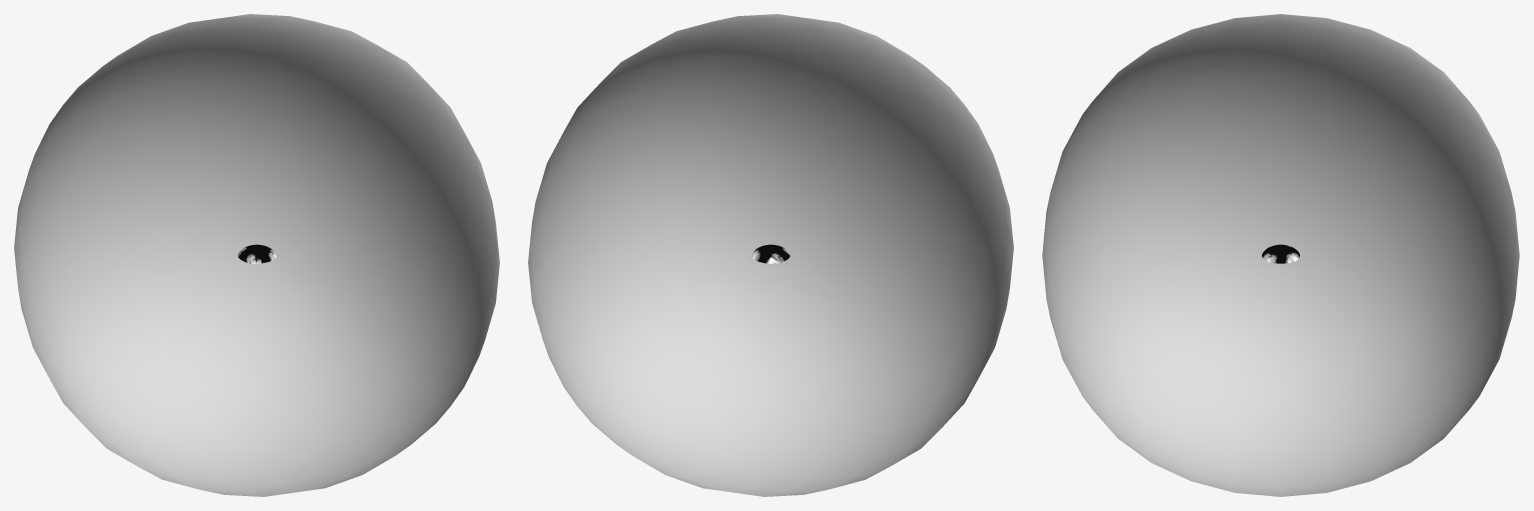
Rendered from Flower.glb.
3 views of the same model, side by side, from view 1: azimuth 30°, elevation 25°; view 2: azimuth 150°, elevation 25°; view 3: azimuth 270°, elevation 25° (orthographic).
Parts seen in each view (by area): view 1: BG, ground; view 2: BG, ground; view 3: BG, ground.
Part boxes in pixels (x1,y1,x2,y2): BG: (14, 14, 499, 496); ground: (237, 244, 276, 263); BG: (528, 14, 1013, 496); ground: (751, 244, 790, 263); BG: (1042, 14, 1519, 496); ground: (1262, 244, 1299, 263).
Bounding box in the file's own units: 74.9 × 74.9 × 74.9.
2 materials, 1 textured.
